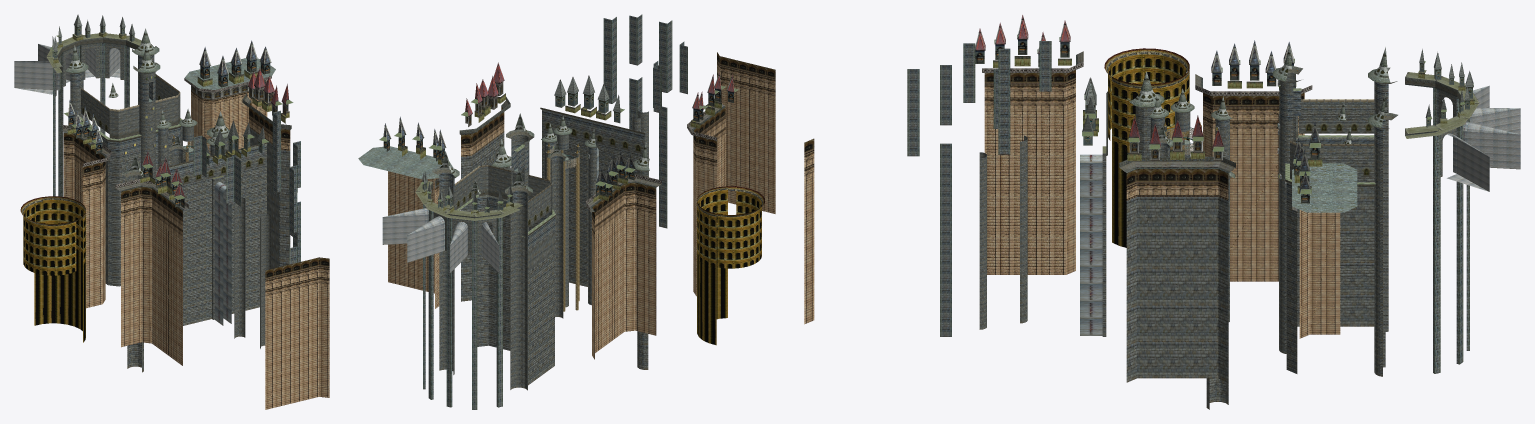
File: Robot storm 4.obj
The picture shows the model from 3 angles, left to right: view 1: azimuth 30°, elevation 25°; view 2: azimuth 150°, elevation 25°; view 3: azimuth 270°, elevation 25°; orthographic projection. The views are drawn at different scales.
Visible parts, largest first — view 1: Object_2; view 2: Object_2; view 3: Object_2.
Boxes of the visible parts, left/top/right/bottom form: Object_2: left=14, top=14, right=329, bottom=409; Object_2: left=358, top=14, right=775, bottom=409; Object_2: left=804, top=15, right=1520, bottom=409.
Bounding box in the file's own units: 9266 × 7794 × 14106.
